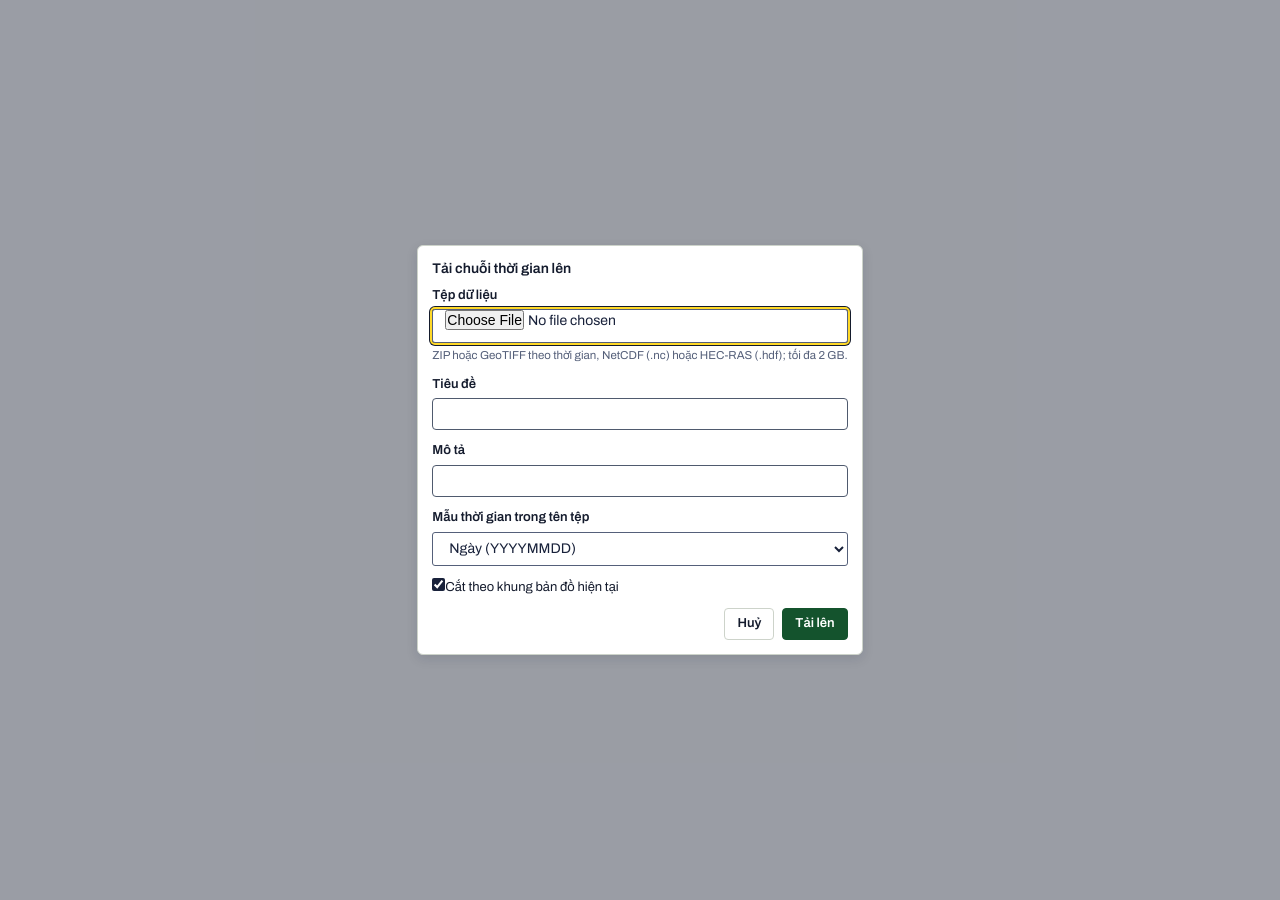
Test case: TimeseriesUploadDialog › shows the success message only once the layer was added
Earlier steps of the test are not shown.
Step 1. Type "Mưa" into the field labelled "Tiêu đề" → x=640, y=414, box [432,398,848,430]
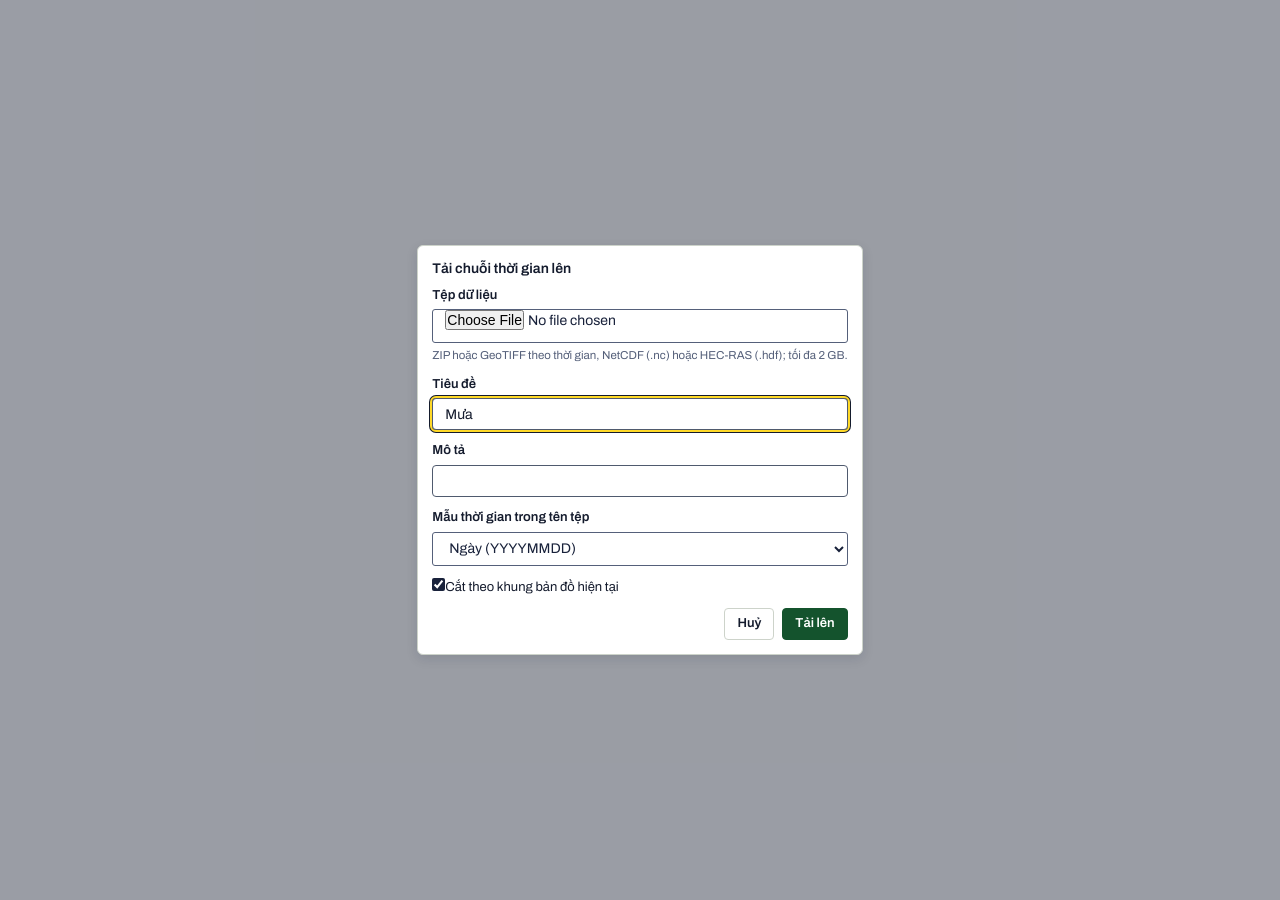
Step 2. Click the button "Tải lên" → x=815, y=624, box [782,608,848,640]
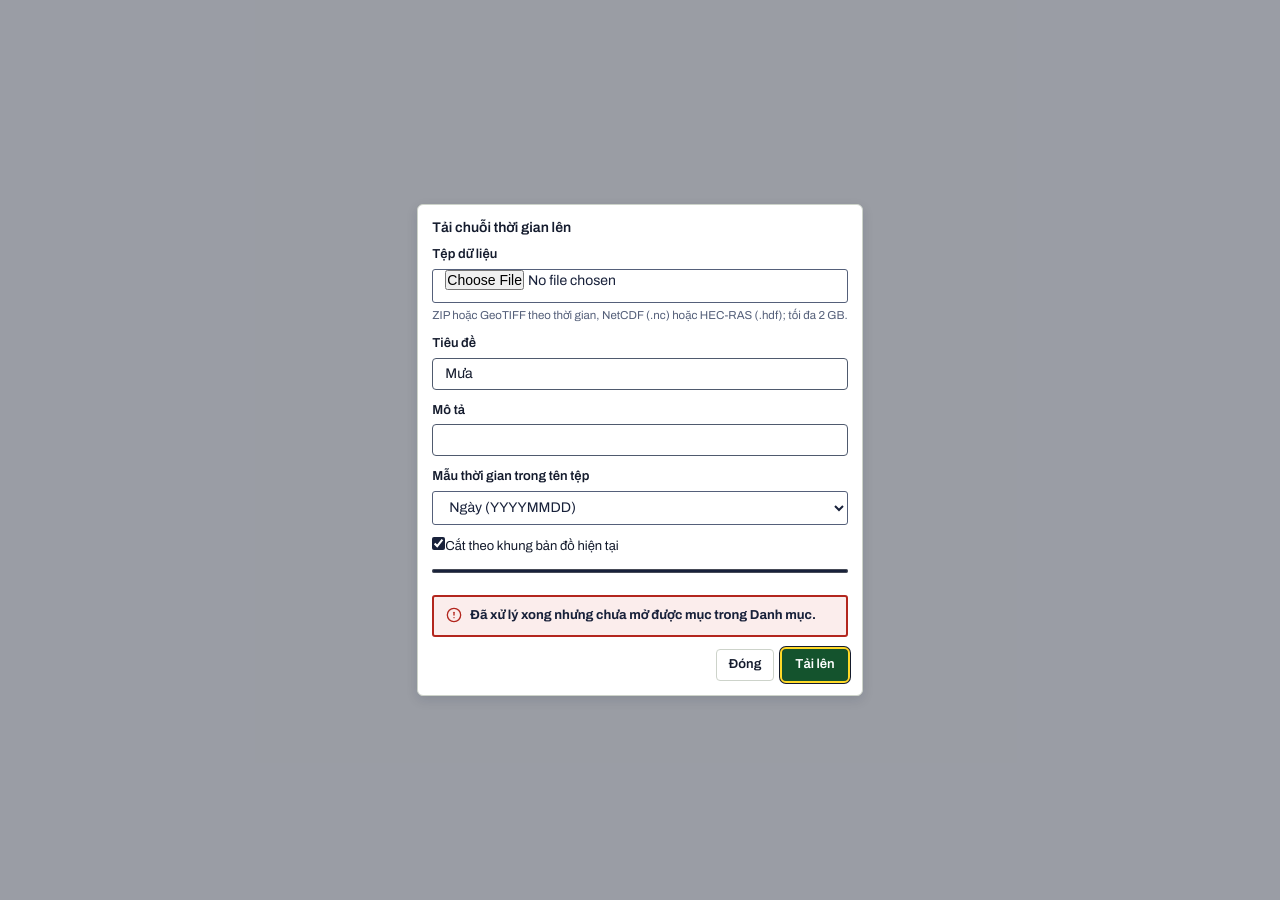
Expected: the text "Đã xử lý xong nhưng chưa mở được mục trong Danh mục." is shown, [470,608,816,622]
